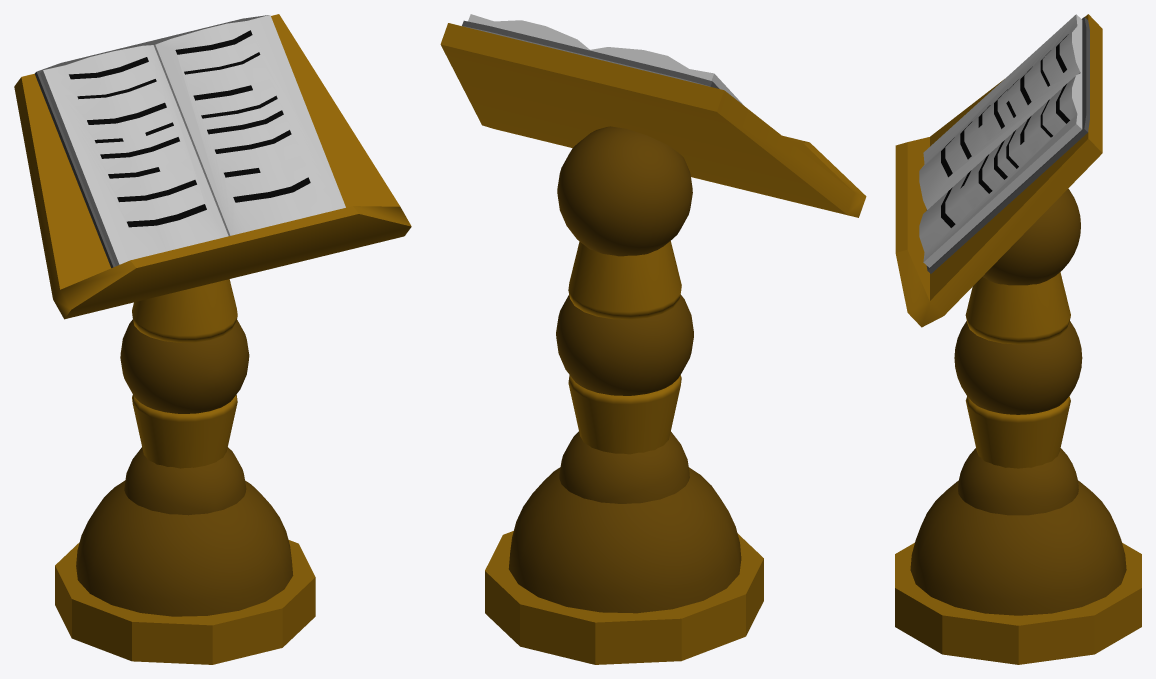
The model's file is book stands.fbx.
3 renders of one model, left to right at view 1: azimuth 30°, elevation 25°; view 2: azimuth 150°, elevation 25°; view 3: azimuth 270°, elevation 25°, orthographic. The views are drawn at different scales.
Visible parts, largest first — view 1: pCylinder3; view 2: pCylinder3; view 3: pCylinder3.
Part boxes in pixels (<box>): pCylinder3: <box>14,14,411,664</box>; pCylinder3: <box>440,14,866,664</box>; pCylinder3: <box>895,14,1141,664</box>.
Size of the model in its own units: 9 by 13.91 by 5.71.
